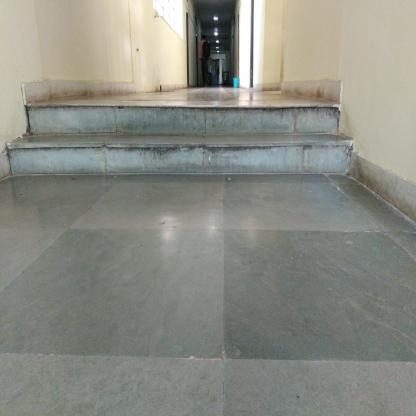stairs: (29, 99, 339, 182)
